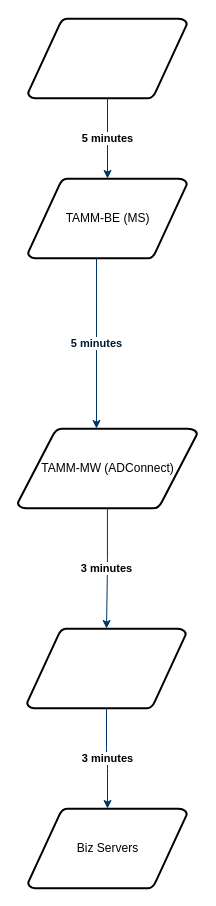
Image size: 216x906. Some labels were removed from this diagram. The shapes that lost their labels are listed below. From the top down, each one's centre as x and y in pixels, then its label:
the point at 107,58: TAMM-FE
the point at 106,668: Accela Wrapper
